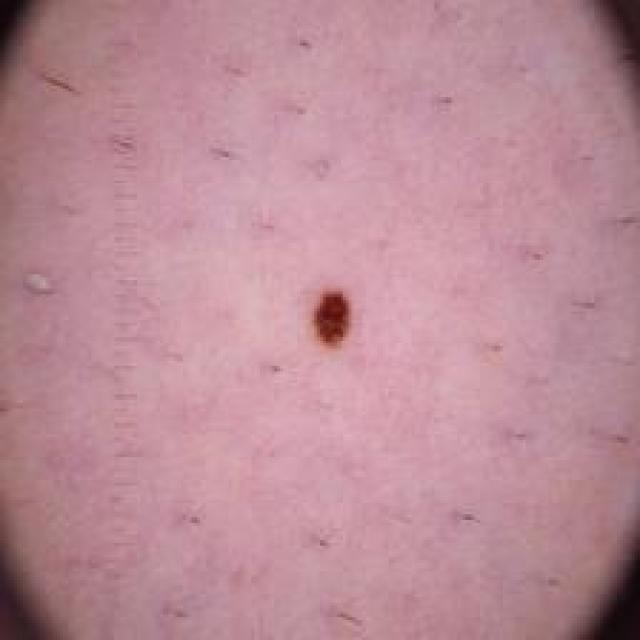Cancer: (305, 278, 361, 352)
